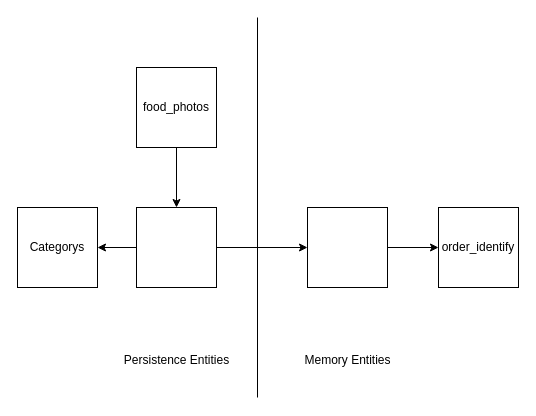
Image size: 536x416. Some labels were removed from this diagram. Each missing label, with the centre of its shape:
"Food" goes at point 176,247.
"order" goes at point 347,247.
